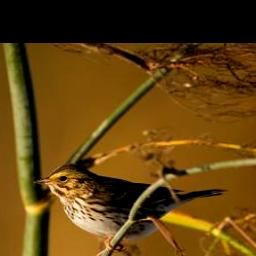Sparrow: (33, 161, 230, 256)
